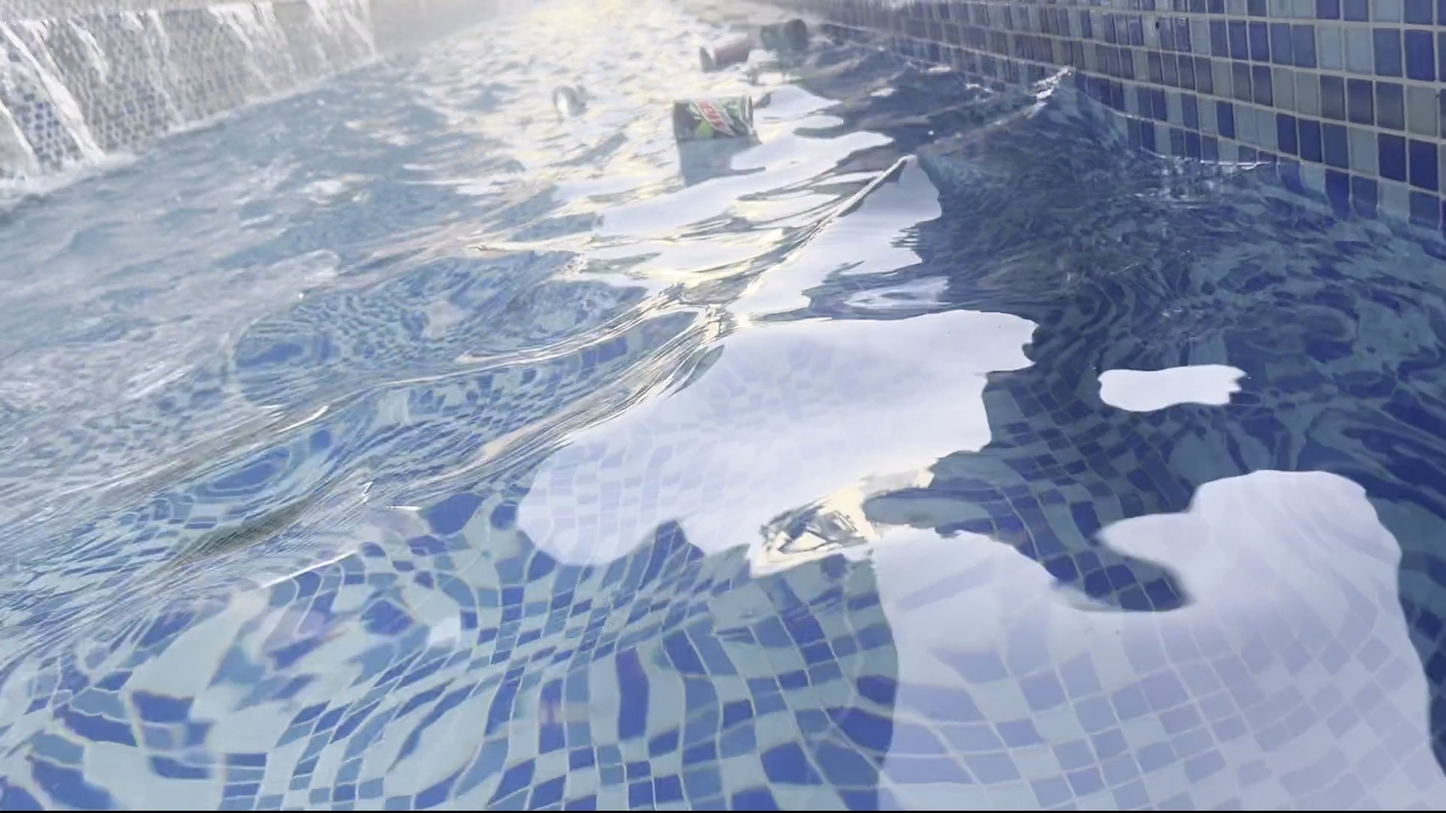debris: (667, 89, 761, 144), (694, 27, 755, 71), (758, 15, 811, 53), (552, 80, 593, 113)
